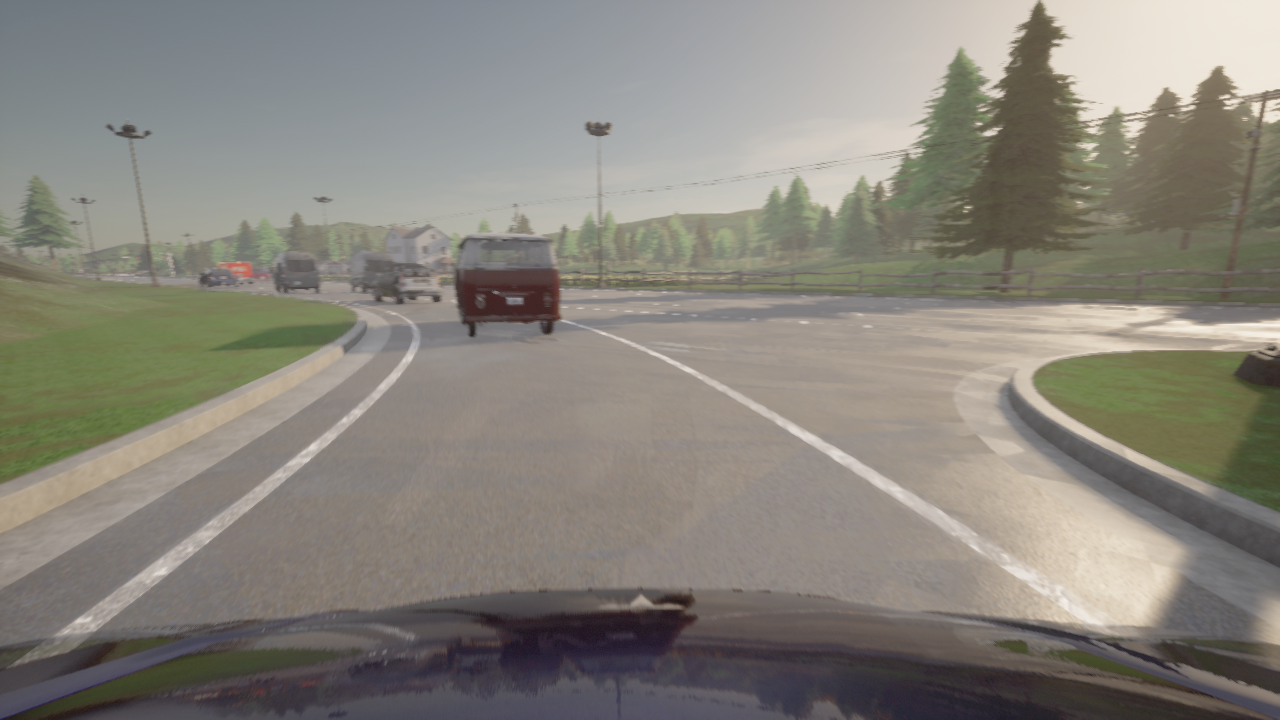cyclist: (0, 588, 1279, 719), (450, 232, 560, 337), (371, 264, 442, 304), (270, 252, 320, 292), (347, 252, 394, 292), (218, 262, 254, 284), (198, 268, 238, 287), (252, 267, 270, 283), (432, 269, 440, 285), (90, 273, 93, 274)
